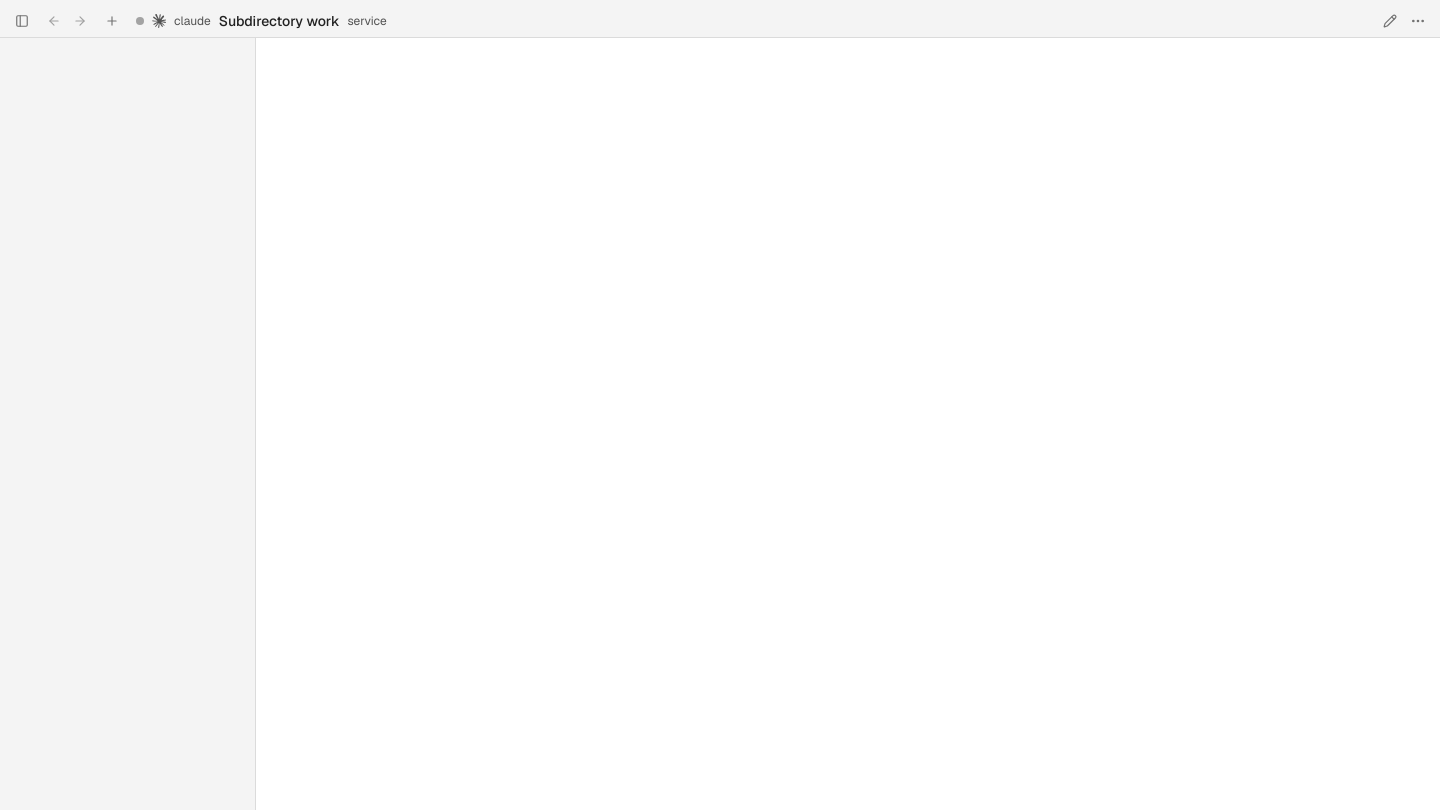
Test case: shows persisted cwd instead of project or worktree metadata (null)
Expected: the button named "Go back" is shown, [42,8,66,32]
Click the button named "Session information": [1418, 20] box [1406,8,1430,32]
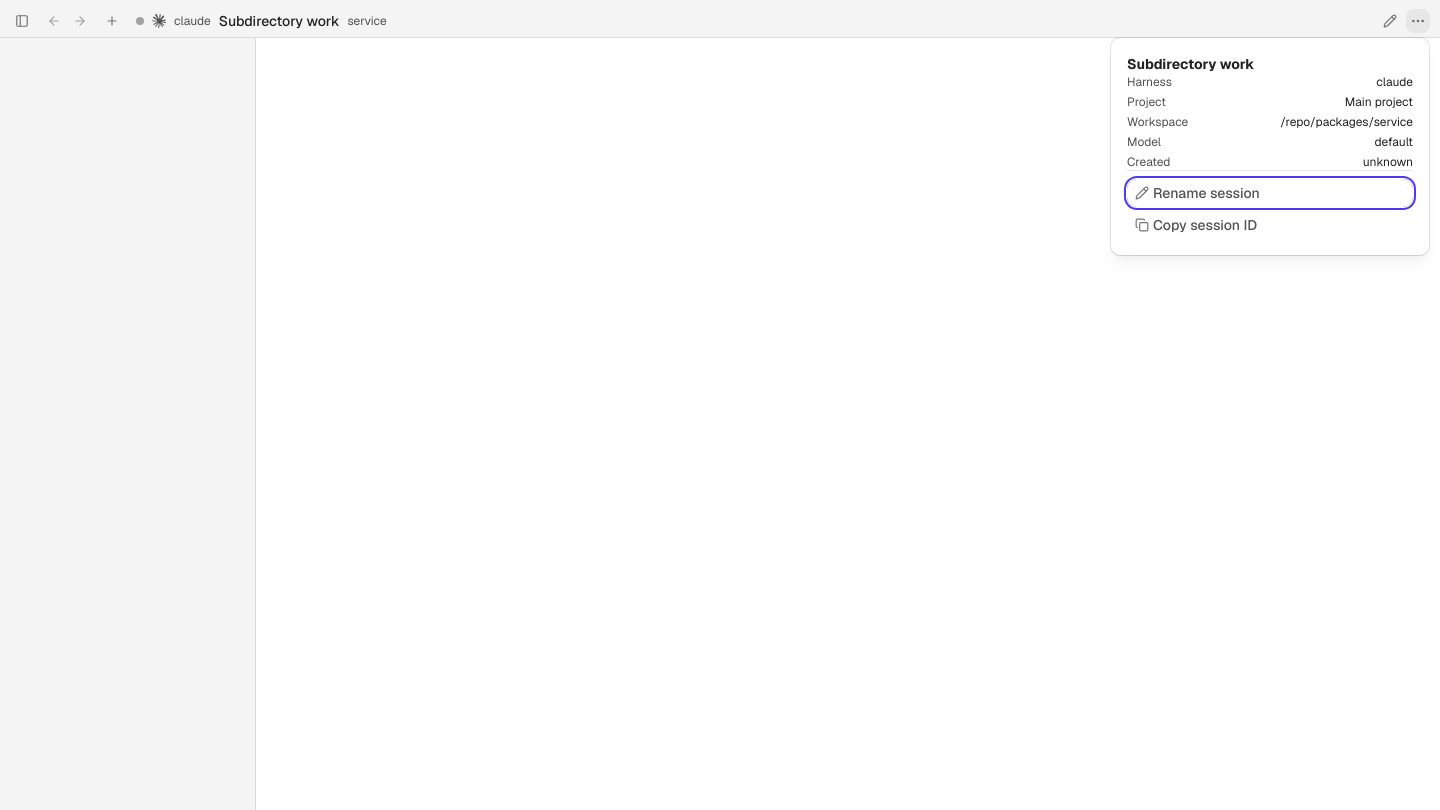
Expected: the text "/repo/packages/service" is shown, [1280,114,1413,130]
